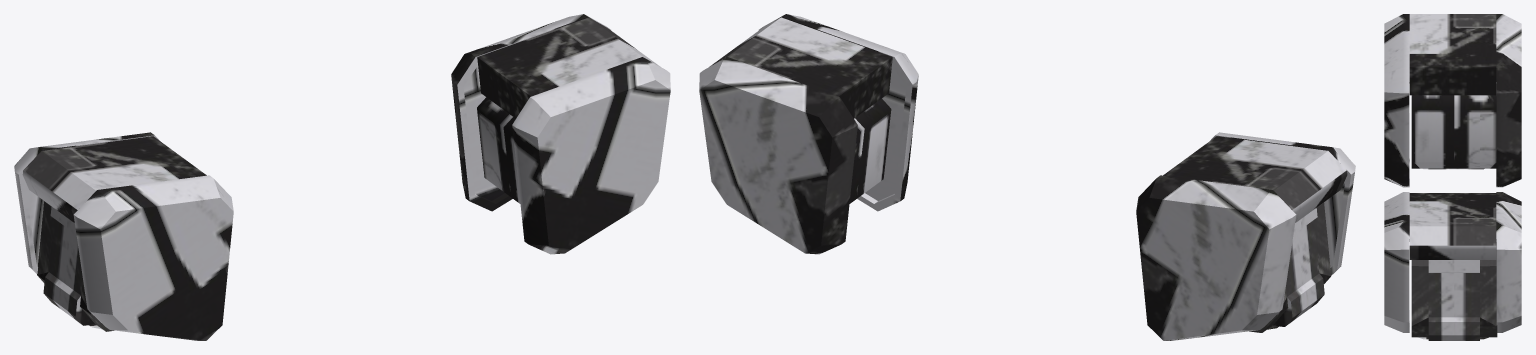
Rendered from left_arm.obj.
3 renders of one model, left to right at view 1: azimuth 30°, elevation 25°; view 2: azimuth 150°, elevation 25°; view 3: azimuth 270°, elevation 25°, orthographic. The views are drawn at different scales.
Visible parts, largest first — view 1: polySurface666; view 2: polySurface666; view 3: polySurface666.
Part boxes in pixels (bbox=[...]): polySurface666: bbox=[14, 14, 670, 340]; polySurface666: bbox=[699, 14, 1355, 340]; polySurface666: bbox=[1384, 14, 1521, 340].
Bounding box in the file's own units: 10.81 × 2.99 × 2.73.
